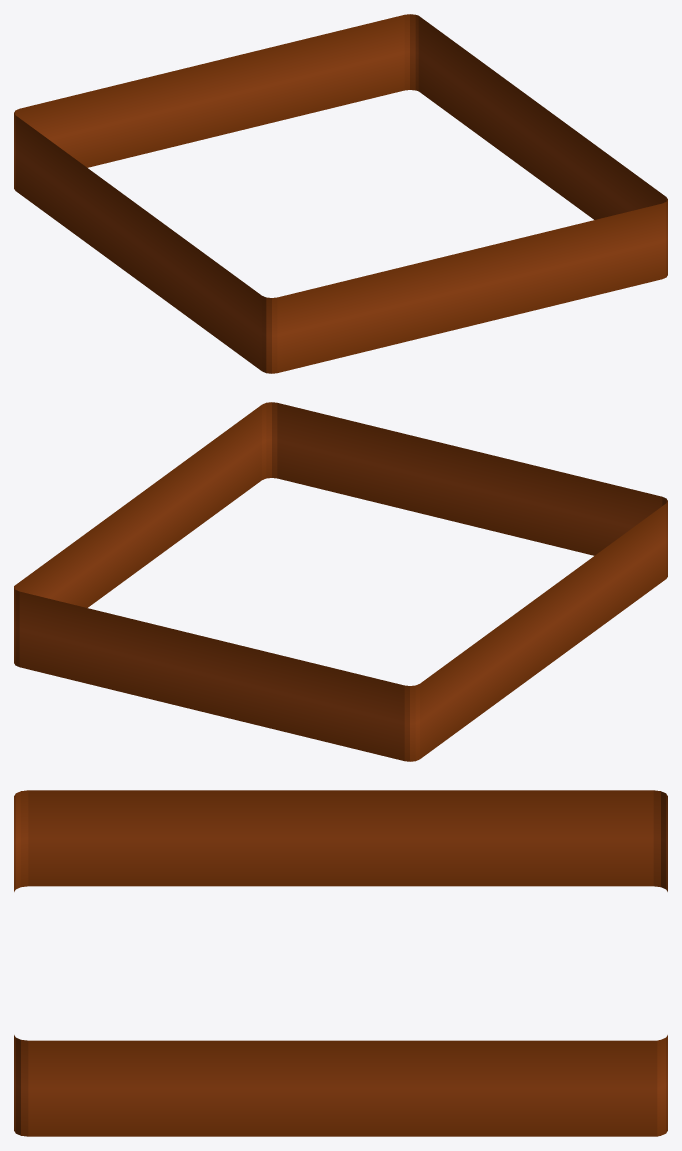
Rendered from grass_hill 1.fbx.
The picture shows the model from 3 angles, top to bottom: view 1: azimuth 30°, elevation 25°; view 2: azimuth 150°, elevation 25°; view 3: azimuth 270°, elevation 25°; orthographic projection. The views are drawn at different scales.
Visible parts, largest first — view 1: grass_hill; view 2: grass_hill; view 3: grass_hill.
Part boxes in pixels (box(x1,y1,x2,y2)): grass_hill: box(14, 14, 667, 373); grass_hill: box(14, 402, 667, 761); grass_hill: box(14, 790, 667, 1136).
Bounding box in the file's own units: 587 × 105 × 648.
